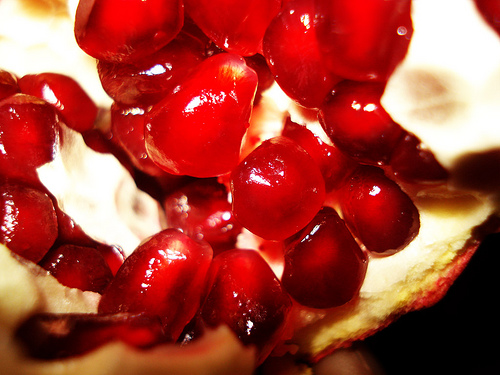pomogranate: (0, 0, 499, 373)
